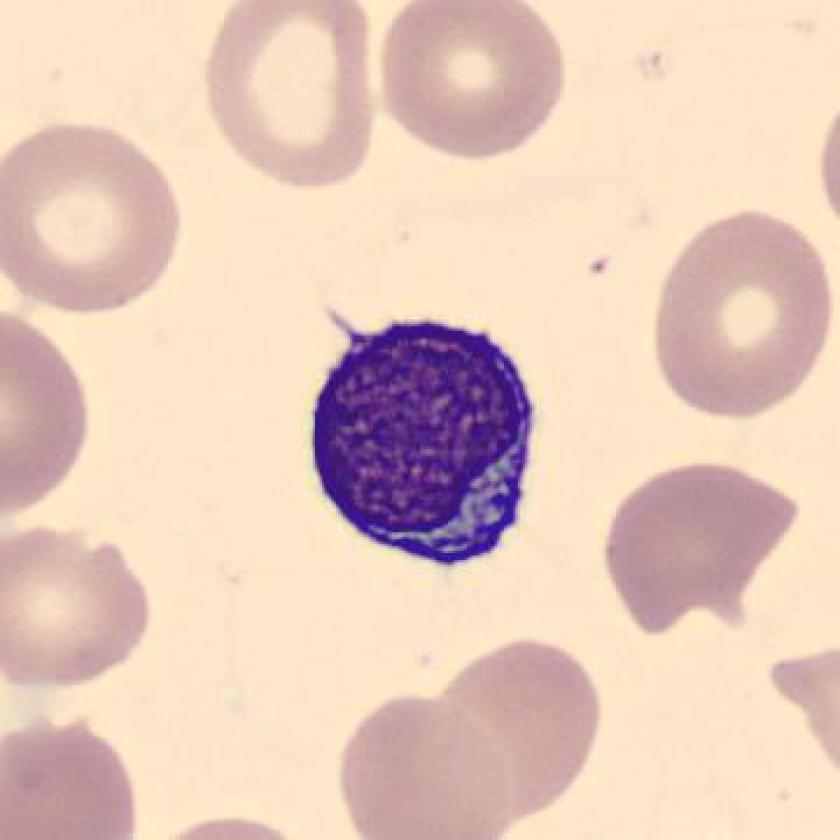lymphocyte: (295, 288, 554, 593)
